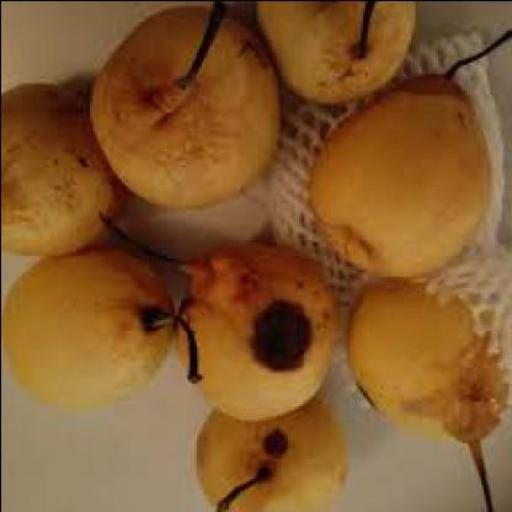biodegradable: (309, 30, 511, 288), (91, 3, 284, 214), (346, 282, 511, 511), (2, 246, 205, 412), (3, 84, 171, 266), (173, 246, 337, 424), (196, 400, 348, 512), (254, 3, 417, 107)
